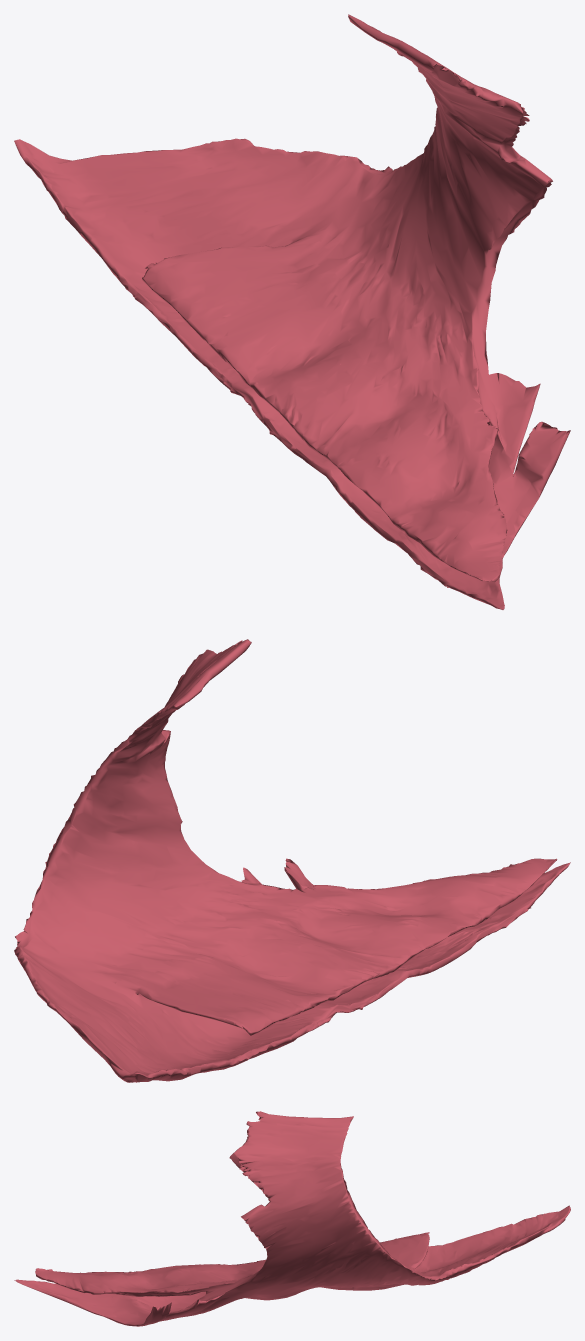
3 views of the same model, one above another, from view 1: azimuth 30°, elevation 25°; view 2: azimuth 150°, elevation 25°; view 3: azimuth 270°, elevation 25° (orthographic). The views are drawn at different scales.
Visible parts, largest first — view 1: 左侧腹内斜肌; view 2: 左侧腹内斜肌; view 3: 左侧腹内斜肌.
Boxes of the visible parts, x1,y1,x2,y2 form: 左侧腹内斜肌: [14, 14, 570, 609]; 左侧腹内斜肌: [14, 639, 570, 1082]; 左侧腹内斜肌: [14, 1111, 570, 1326].
Bounding box in the file's own units: 0.1836 × 0.2584 × 0.5771.
